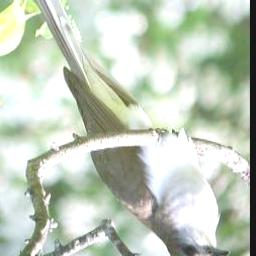Cuckoo: (13, 0, 230, 256)
